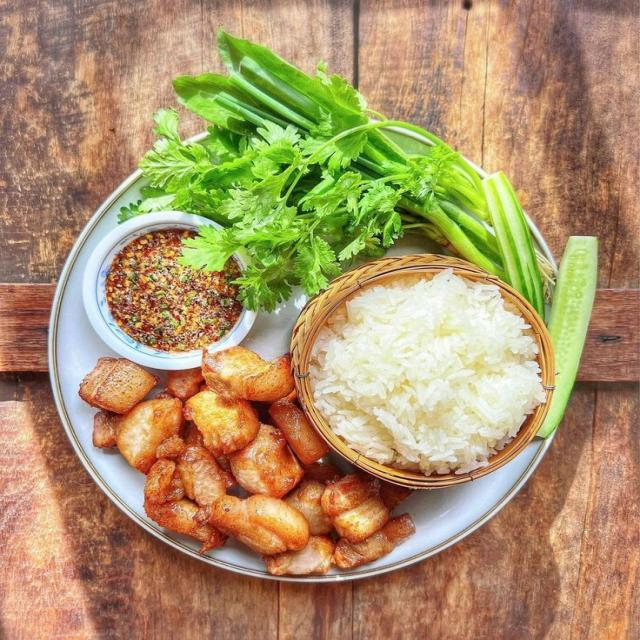Carbohydrate: (306, 267, 549, 478)
Kaow-Friedpork: (49, 94, 590, 581)
Protein: (79, 346, 414, 584)
Vegetable: (148, 24, 602, 440)
